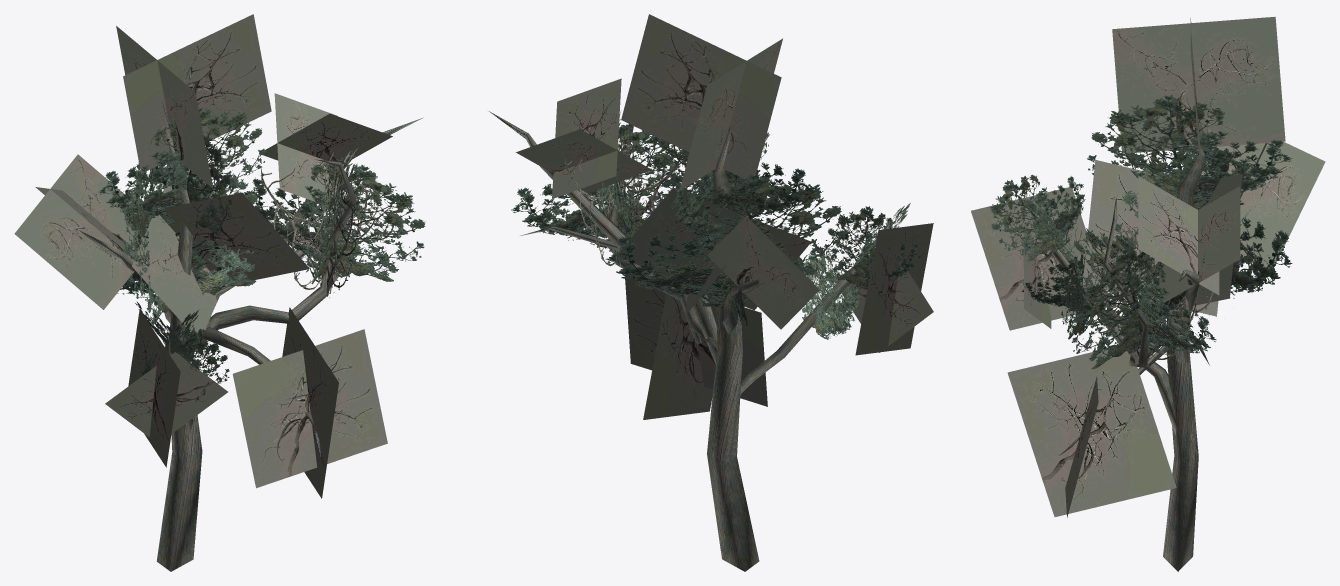
The model's file is ever_torreypinetree_l1.fbx.
3 renders of one model, left to right at view 1: azimuth 30°, elevation 25°; view 2: azimuth 150°, elevation 25°; view 3: azimuth 270°, elevation 25°, orthographic. The views are drawn at different scales.
Visible parts, largest first — view 1: mesh_node; view 2: mesh_node; view 3: mesh_node.
Part boxes in pixels (x1,y1,x2,y2): mesh_node: [14, 14, 425, 571]; mesh_node: [489, 14, 933, 571]; mesh_node: [971, 16, 1325, 571].
Size of the model in its own units: 6.81 by 9 by 5.32.
